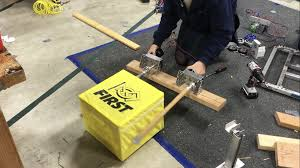cube: (79, 69, 164, 161)
